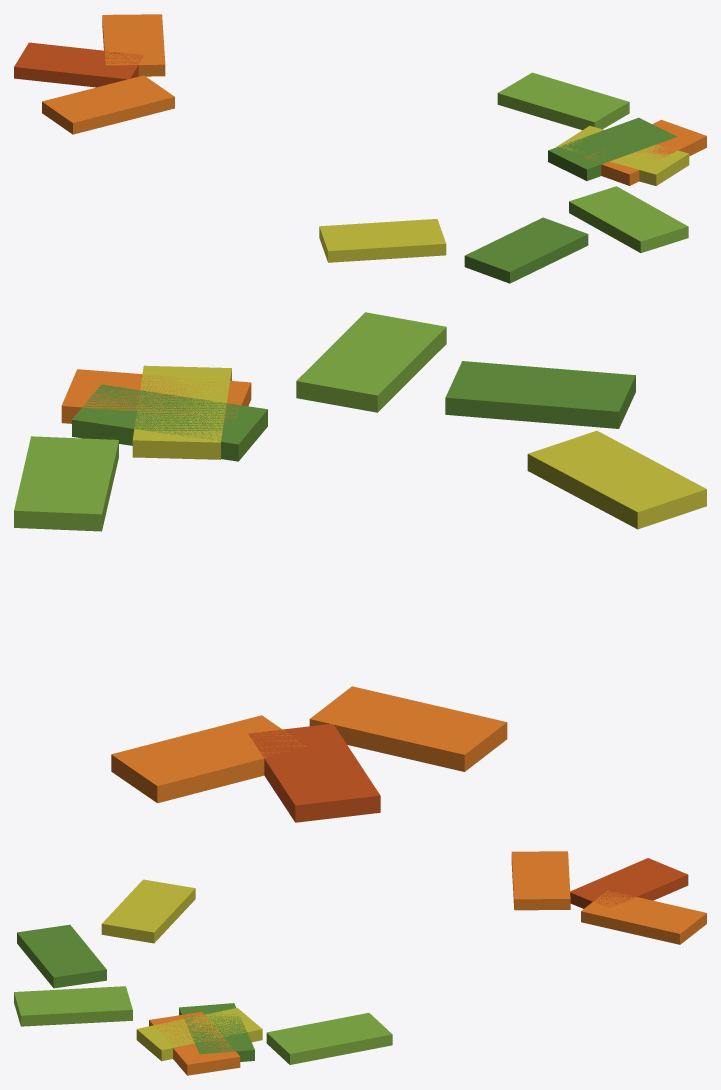
File: Leaves_Scatter.fbx
3 views of the same model, one above another, from view 1: azimuth 30°, elevation 25°; view 2: azimuth 150°, elevation 25°; view 3: azimuth 270°, elevation 25° (orthographic). The views are drawn at different scales.
Visible parts, largest first — view 1: Leaves_Scatter; view 2: Leaves_Scatter; view 3: Leaves_Scatter.
Boxes of the visible parts, x1,y1,x2,y2 form: Leaves_Scatter: (14, 14, 706, 283); Leaves_Scatter: (14, 312, 706, 822); Leaves_Scatter: (14, 851, 706, 1075).
Size of the model in its own units: 0.6271 by 0.015 by 0.8598.
